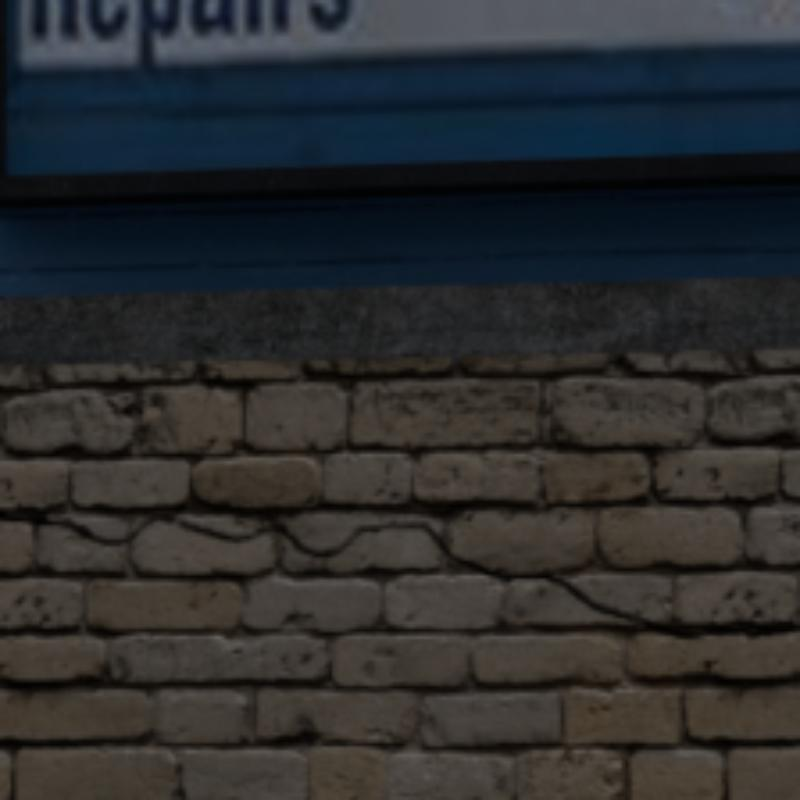crack: (543, 575, 796, 636), (246, 521, 454, 557), (0, 511, 173, 543), (454, 557, 543, 579)
